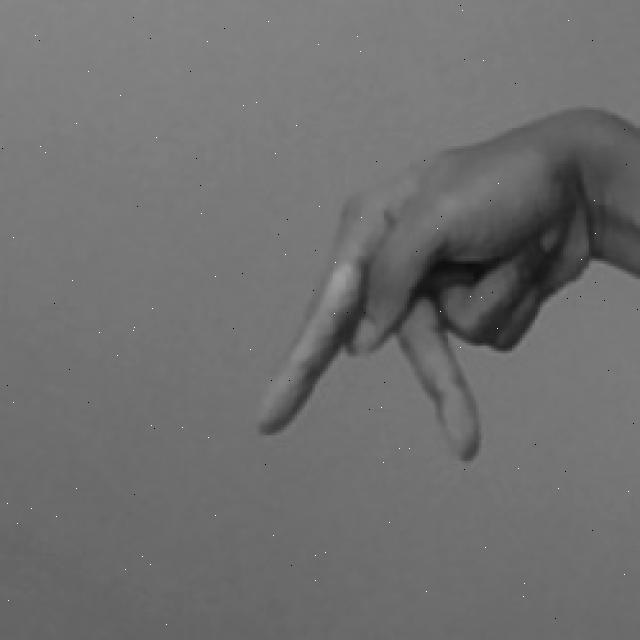P: (246, 95, 640, 466)
